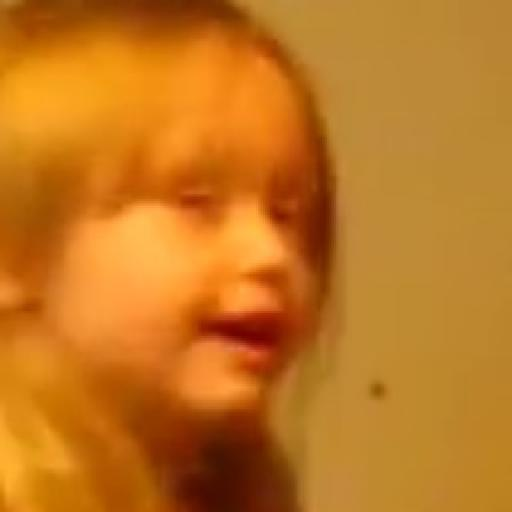Autism: (31, 7, 454, 503)
